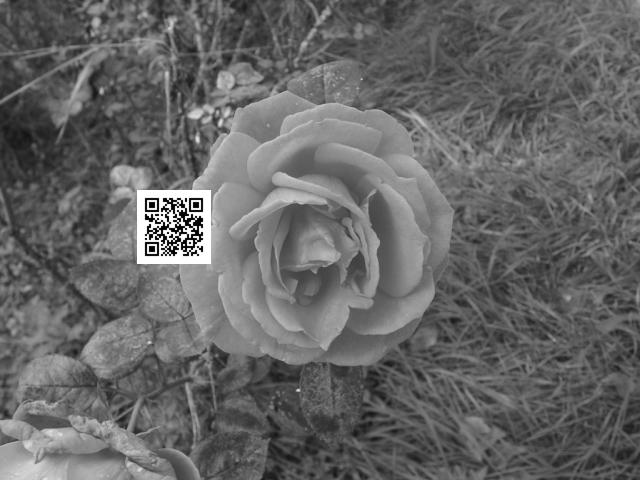qr_code: (136, 190, 211, 264)
